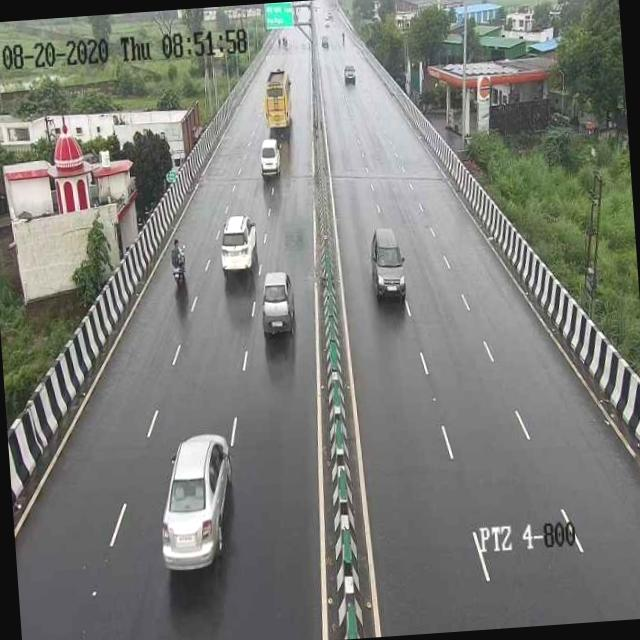car: (148, 427, 238, 585), (362, 220, 416, 310), (256, 266, 298, 353), (214, 208, 259, 284), (253, 133, 283, 183)
